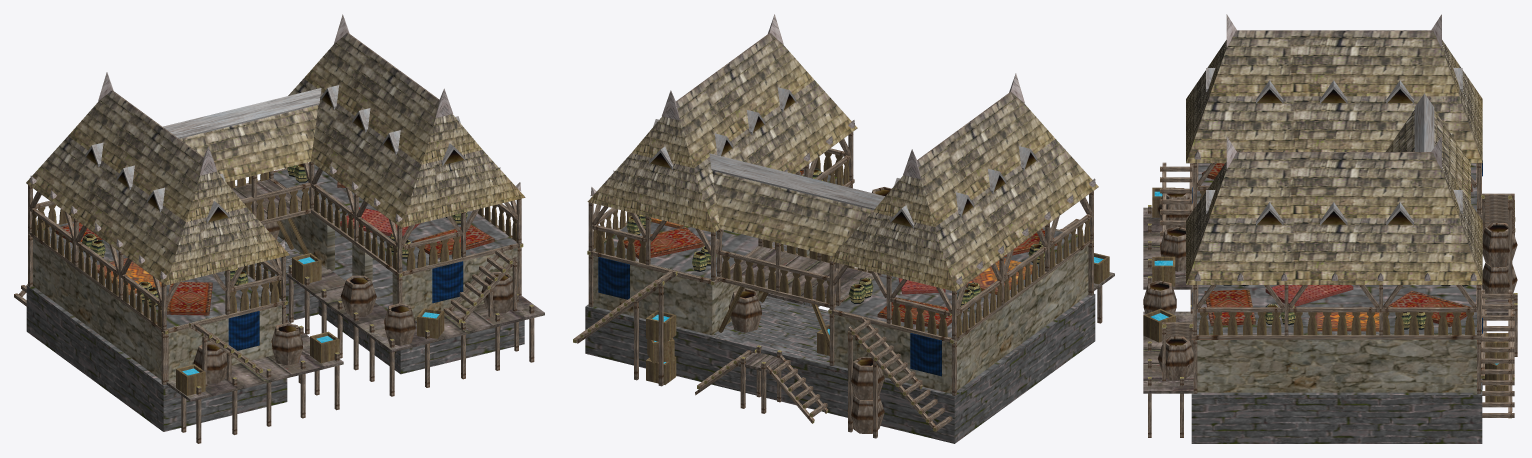
The model's file is dock.dae.
3 renders of one model, left to right at view 1: azimuth 30°, elevation 25°; view 2: azimuth 150°, elevation 25°; view 3: azimuth 270°, elevation 25°, orthographic. The views are drawn at different scales.
Parts seen in each view (by area): view 1: dock; view 2: dock; view 3: dock.
Part boxes in pixels (x1,y1,x2,y2): dock: (14, 14, 544, 443); dock: (573, 14, 1114, 443); dock: (1143, 14, 1517, 443).
Size of the model in its own units: 33.59 by 28.35 by 22.98.
